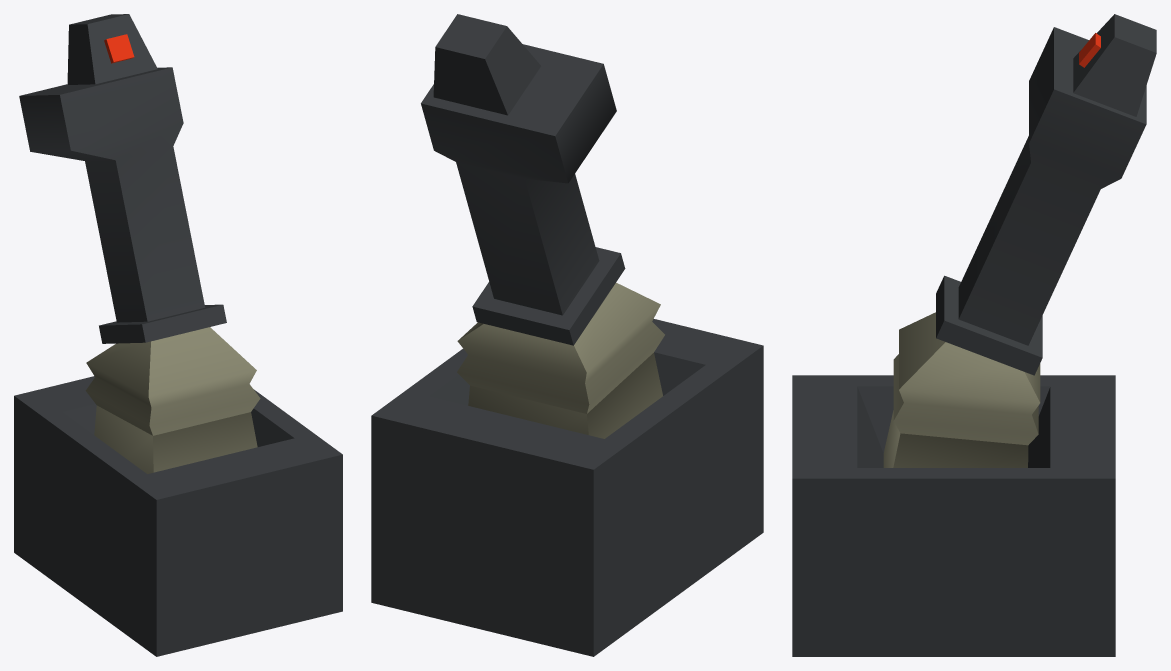
3 renders of one model, left to right at view 1: azimuth 30°, elevation 25°; view 2: azimuth 150°, elevation 25°; view 3: azimuth 270°, elevation 25°, orthographic. The views are drawn at different scales.
Visible parts, largest first — view 1: SM_Prop_Flightstick_01.001, SM_Prop_Flightstick_01; view 2: SM_Prop_Flightstick_01.001, SM_Prop_Flightstick_01; view 3: SM_Prop_Flightstick_01.001, SM_Prop_Flightstick_01.
Boxes of the visible parts, left/top/right/bottom form: SM_Prop_Flightstick_01.001: left=14, top=376, right=342, bottom=656; SM_Prop_Flightstick_01: left=19, top=14, right=260, bottom=473; SM_Prop_Flightstick_01.001: left=371, top=319, right=763, bottom=656; SM_Prop_Flightstick_01: left=421, top=14, right=664, bottom=438; SM_Prop_Flightstick_01.001: left=792, top=375, right=1115, bottom=656; SM_Prop_Flightstick_01: left=883, top=14, right=1156, bottom=467.
Bounding box in the file's own units: 19.08 × 49.99 × 28.47.
